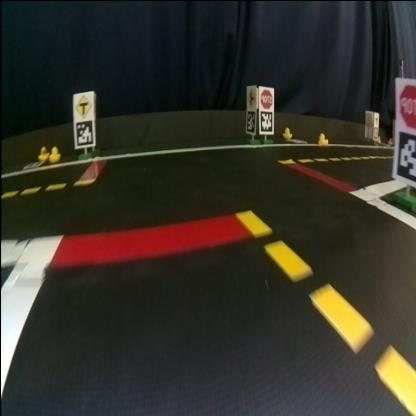Duckie: (48, 146, 61, 162), (39, 145, 49, 159), (282, 126, 292, 138), (318, 132, 328, 144)
Intersection sign: (76, 93, 92, 117), (247, 86, 255, 106), (372, 112, 378, 125)
QR code: (396, 130, 414, 180), (76, 118, 94, 144), (260, 110, 272, 129), (23, 160, 45, 168), (247, 111, 255, 130), (290, 137, 306, 143), (372, 126, 378, 138)
Stop sign: (396, 77, 415, 128), (260, 88, 272, 106)
